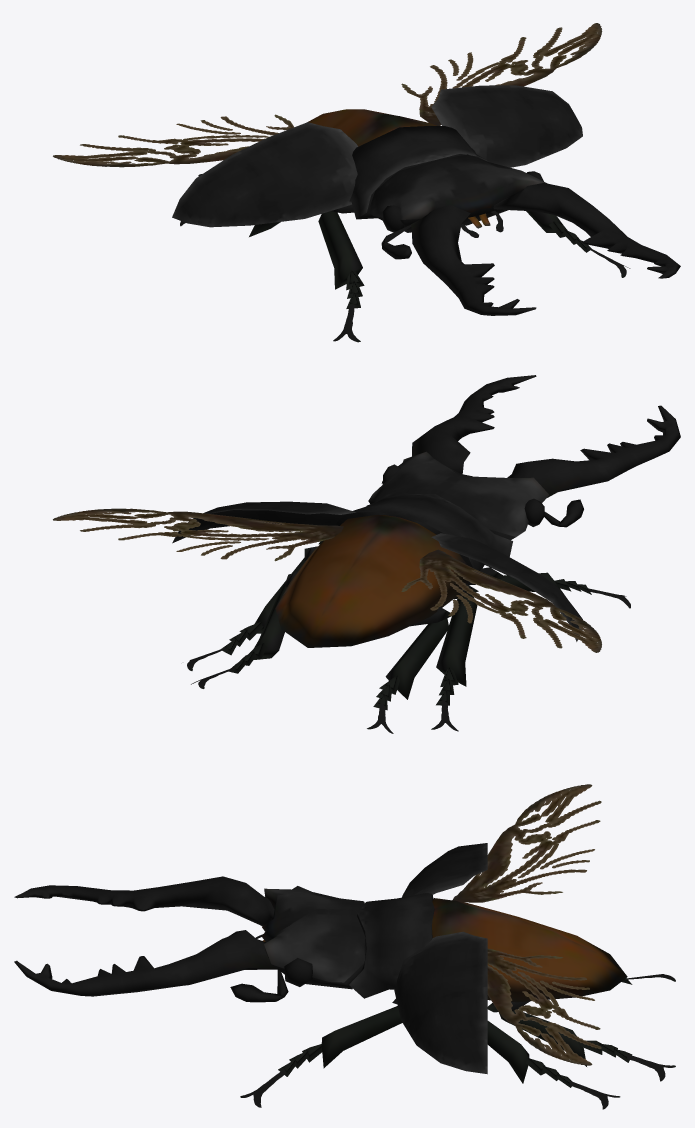
Rendered from giraffe-stag.glb.
3 views of the same model, one above another, from view 1: azimuth 30°, elevation 25°; view 2: azimuth 150°, elevation 25°; view 3: azimuth 270°, elevation 25° (orthographic). The views are drawn at different scales.
Size of the model in its own units: 7.37 by 1.46 by 6.46.
2 materials, 2 textured.
